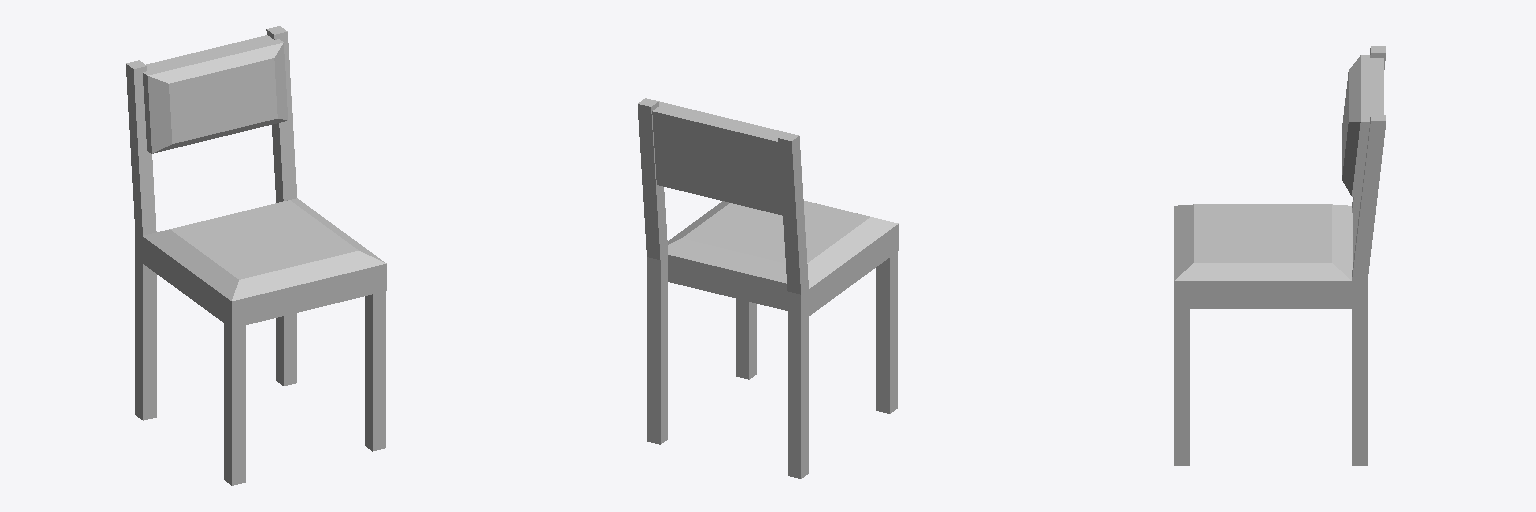
File: chair.obj
3 renders of one model, left to right at view 1: azimuth 30°, elevation 25°; view 2: azimuth 150°, elevation 25°; view 3: azimuth 270°, elevation 25°, orthographic.
Visible parts, largest first — view 1: SM_Prop_ShopInterior_Chair_01_Mesh.005; view 2: SM_Prop_ShopInterior_Chair_01_Mesh.005; view 3: SM_Prop_ShopInterior_Chair_01_Mesh.005.
Boxes of the visible parts, box(x1,y1,x2,y2) form: SM_Prop_ShopInterior_Chair_01_Mesh.005: box(126, 26, 386, 485); SM_Prop_ShopInterior_Chair_01_Mesh.005: box(638, 98, 898, 478); SM_Prop_ShopInterior_Chair_01_Mesh.005: box(1174, 46, 1385, 465).
Size of the model in its own units: 0.4933 by 1.05 by 0.5866.